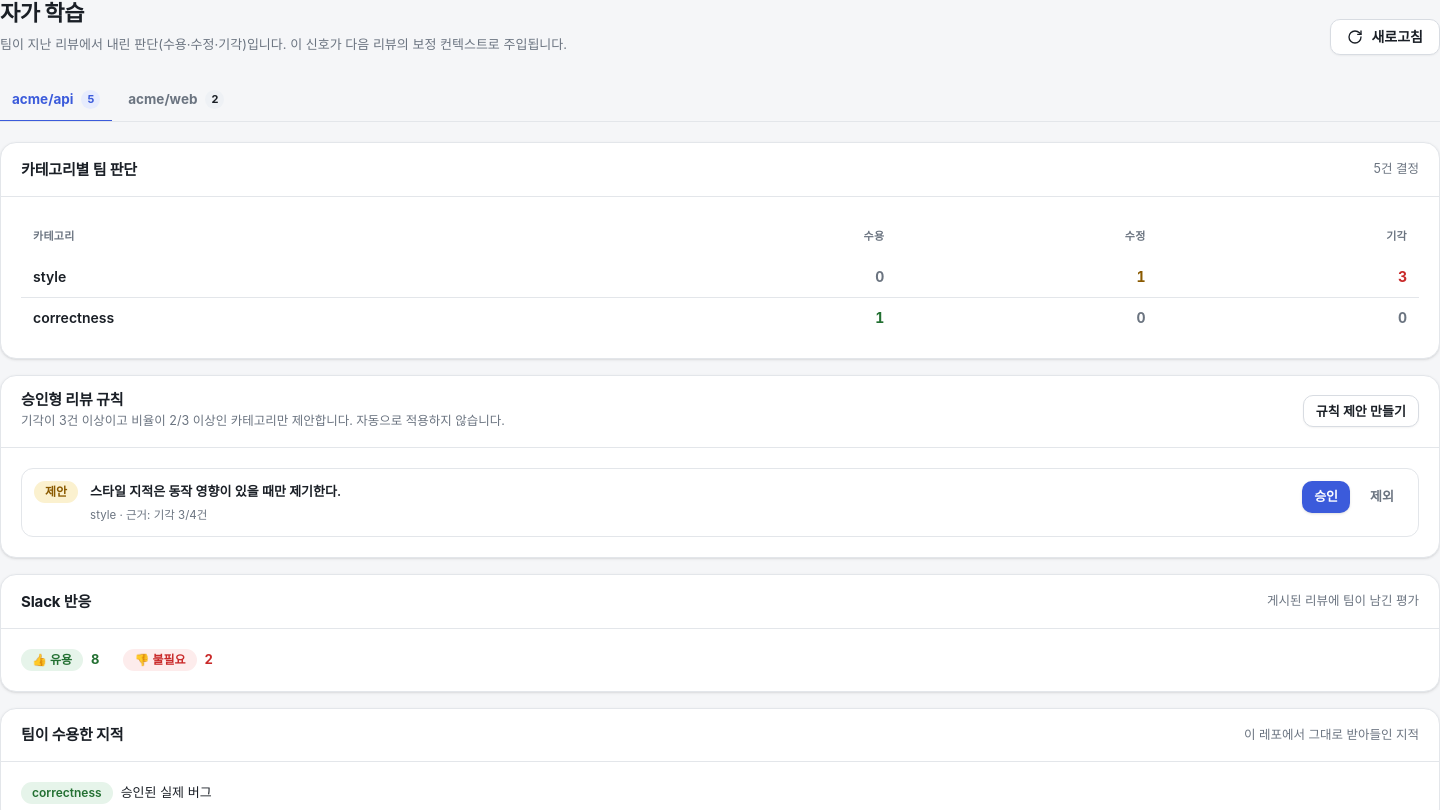
hides slack reactions for a repo with none
The image size is (1440, 810).
Click the tab "acme/web 2". click: (176, 100)
box: [116,79,236,122]
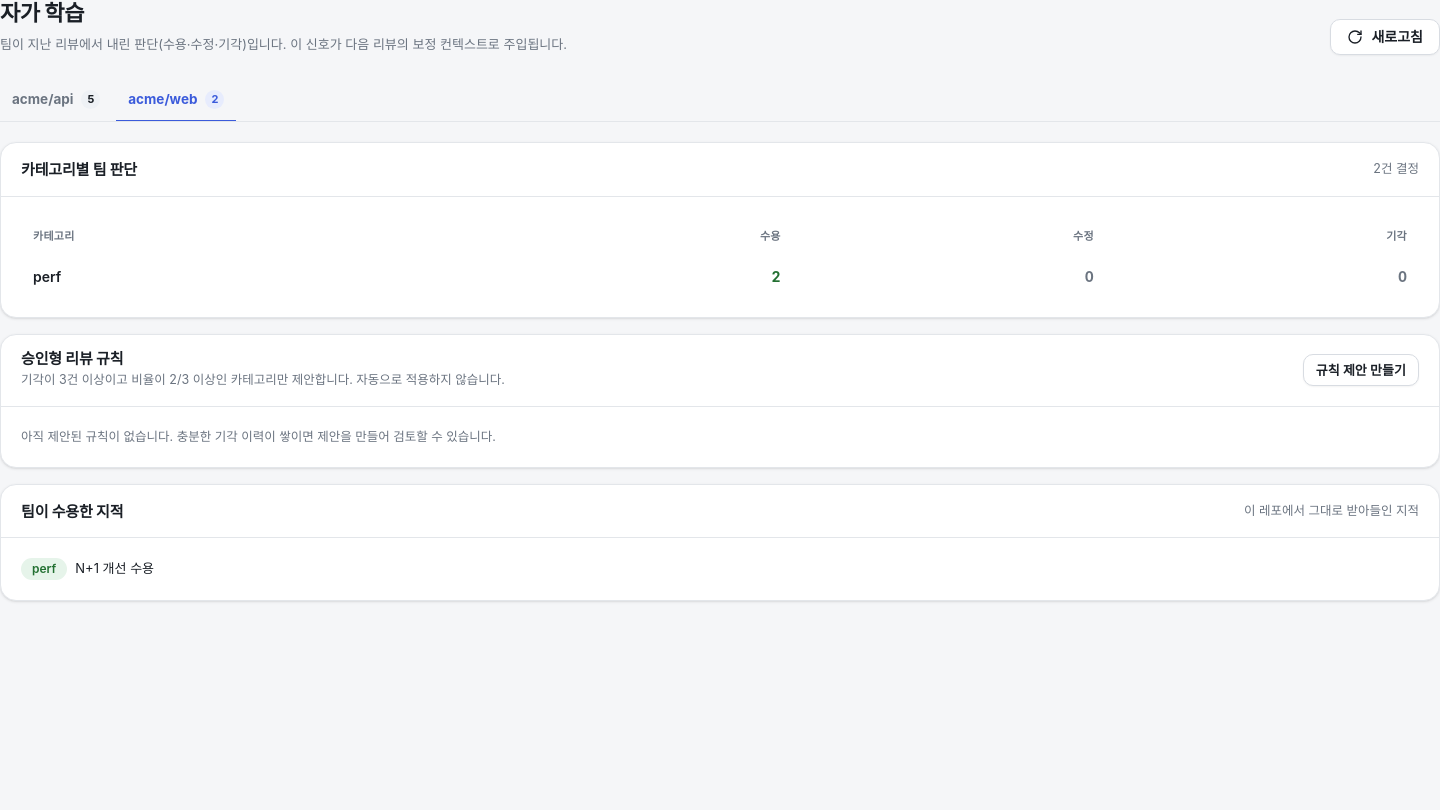
expect the heading "Slack 반응" is gone: met
